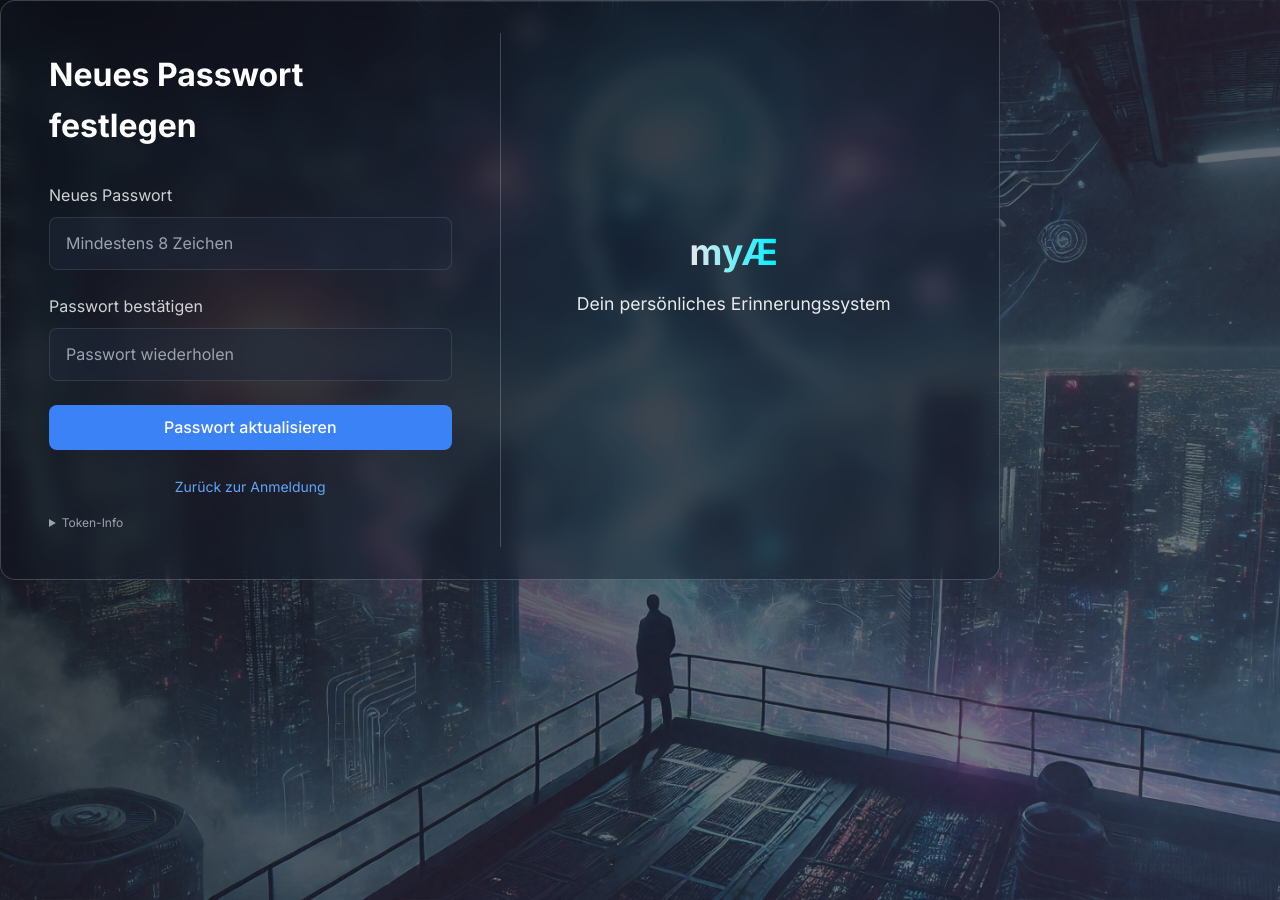
Test: UpdatePasswordForm › validiert Passworteingaben
Zu kurzes Passwort
Type "1234" into the password field labelled "Neues Passwort". click: (250, 244)
box: x1=49 y1=217 x2=452 y2=270
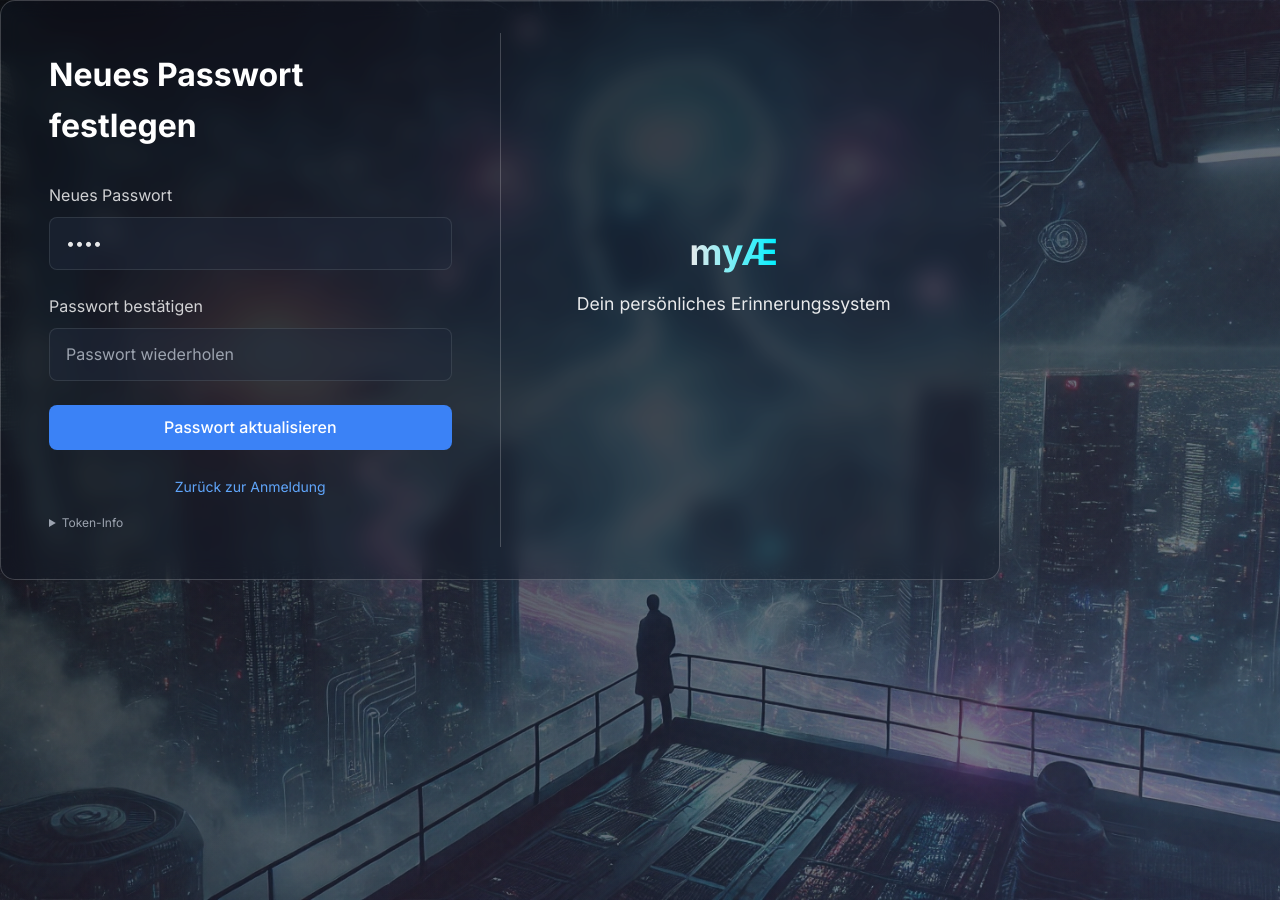
Type "1234" into the password field labelled "Passwort bestätigen". click: (250, 354)
box: x1=49 y1=328 x2=452 y2=381
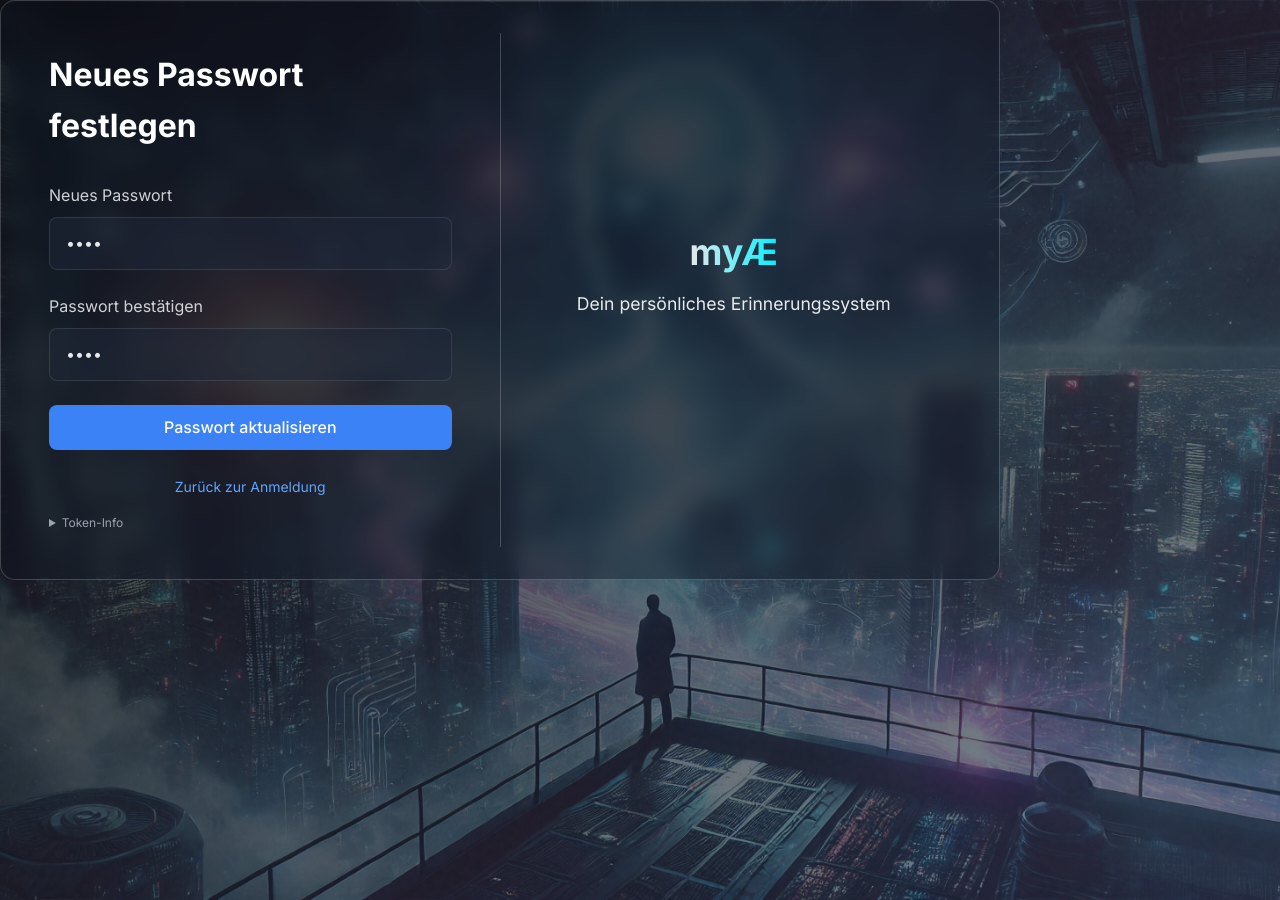
Click the button "Passwort aktualisieren". click: (250, 427)
box: x1=49 y1=405 x2=452 y2=450
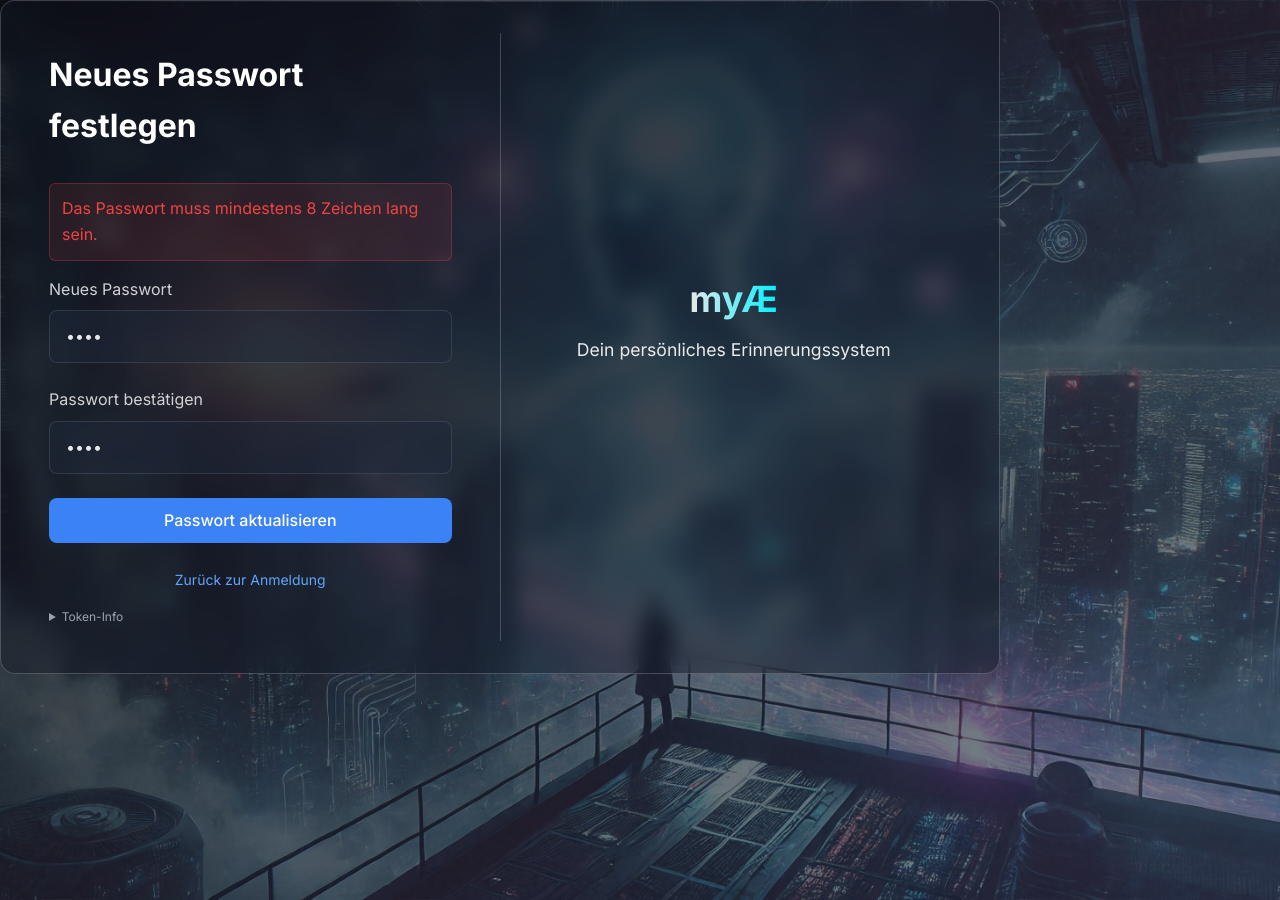
Now the text "Das Passwort muss mindestens 8 Zeichen lang sein." is shown, box x1=49 y1=183 x2=452 y2=261
Passwörter stimmen nicht überein
Type "neuesPasswort123" into the password field labelled "Neues Passwort". click: (250, 337)
box: x1=49 y1=310 x2=452 y2=363
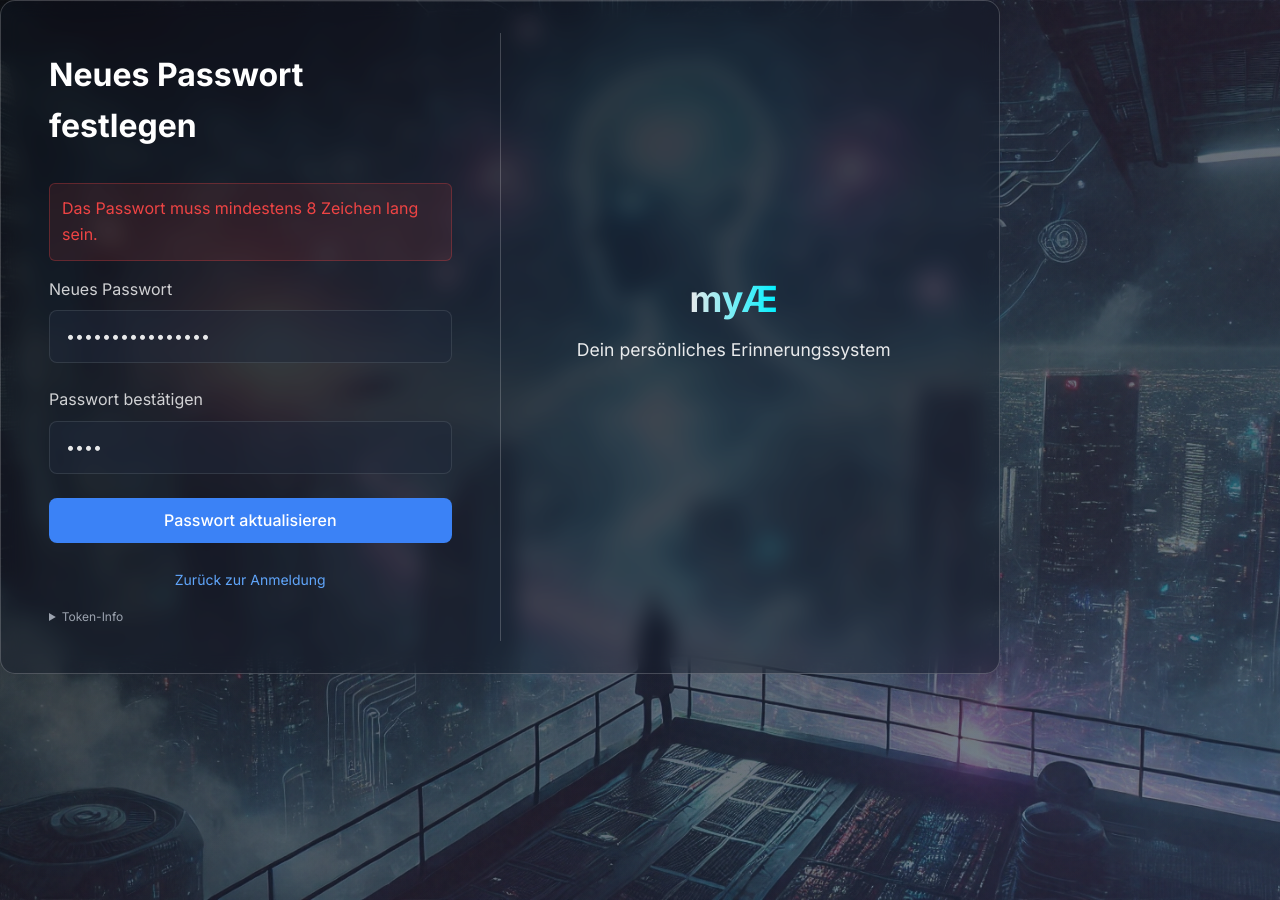
Type "anderePasswort123" into the password field labelled "Passwort bestätigen". click: (250, 448)
box: x1=49 y1=421 x2=452 y2=474
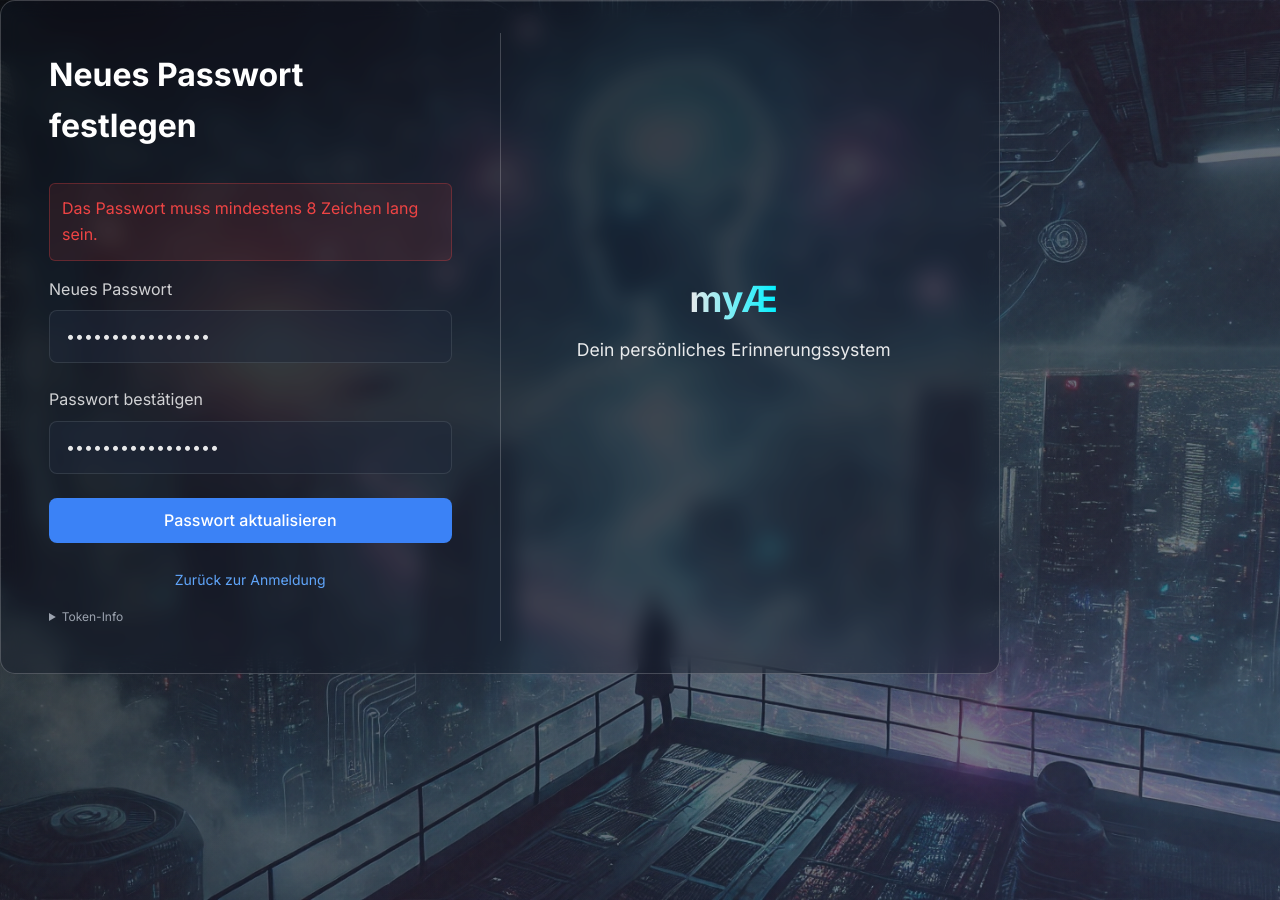
Click the button "Passwort aktualisieren". click: (250, 520)
box: x1=49 y1=498 x2=452 y2=543
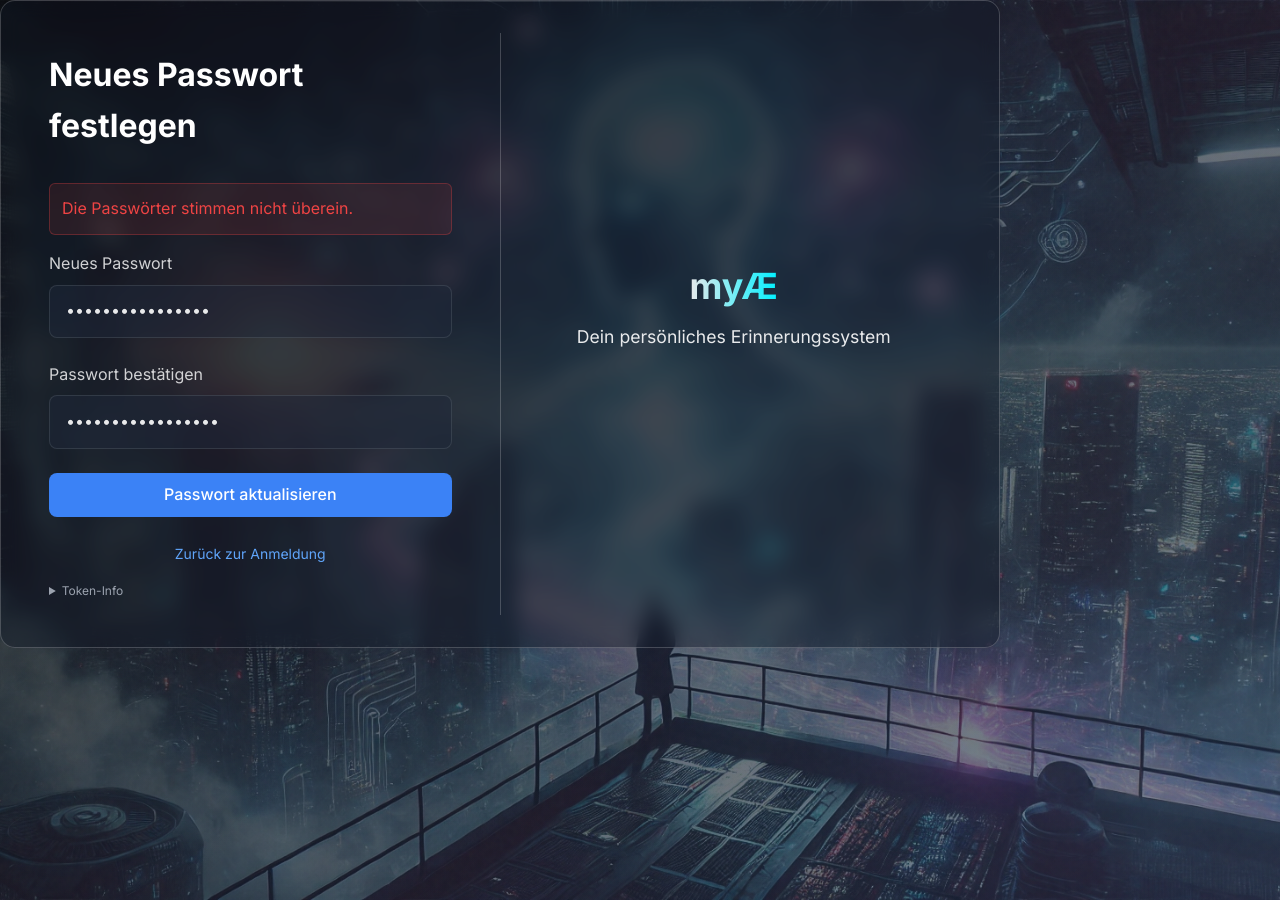
Now the text "Die Passwörter stimmen nicht überein." is shown, box x1=49 y1=183 x2=452 y2=235
